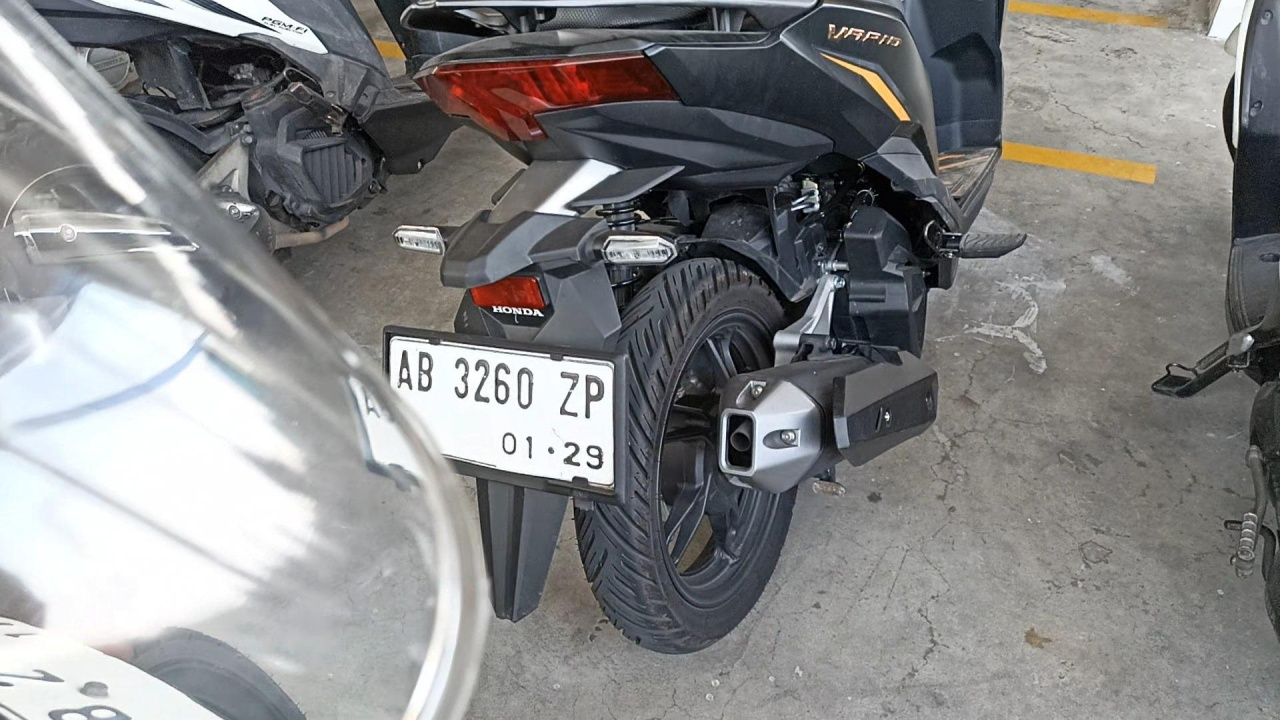plate: (389, 333, 620, 492)
